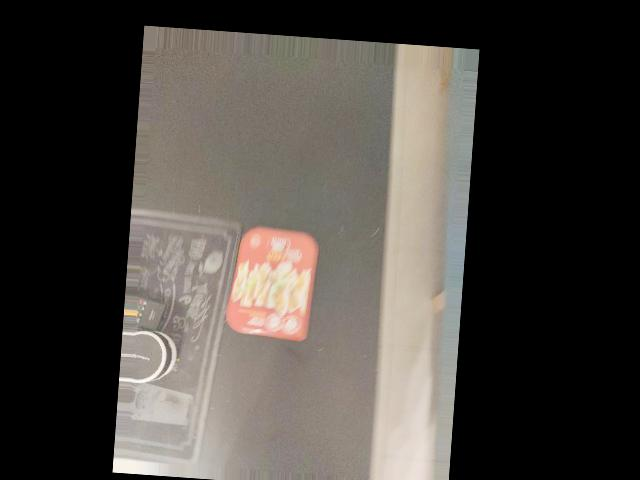cheese: (224, 225, 320, 341)
